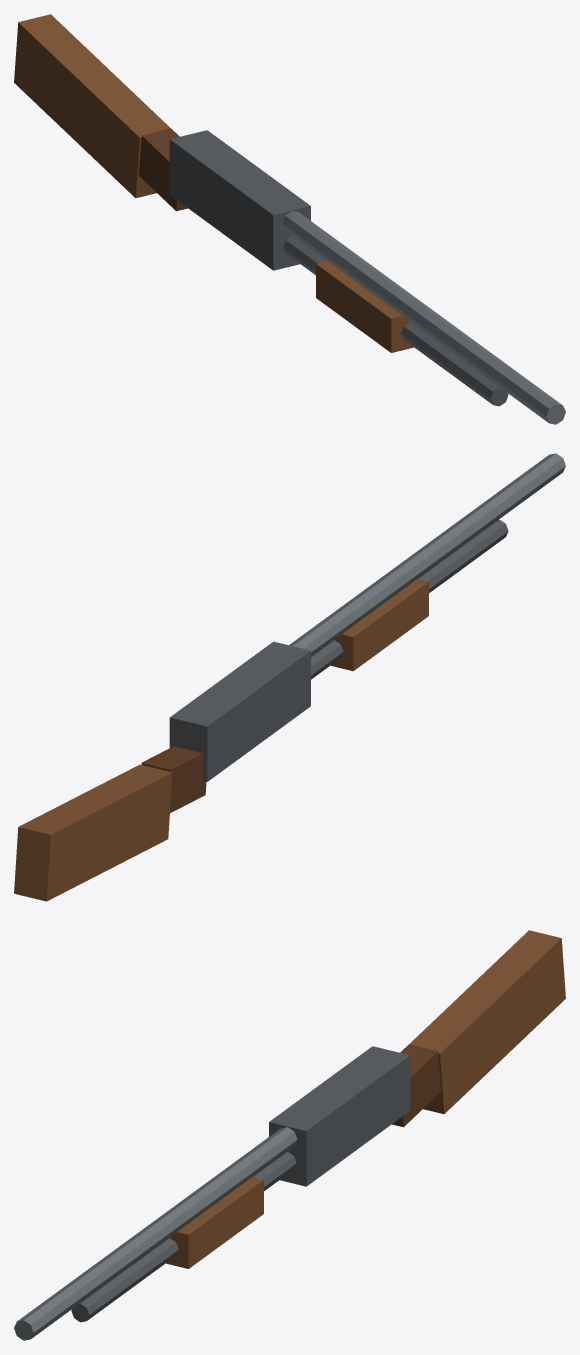
The model's file is gun_shotgun_12g.glb.
The picture shows the model from 3 angles, top to bottom: view 1: azimuth 30°, elevation 25°; view 2: azimuth 150°, elevation 25°; view 3: azimuth 330°, elevation 25°; orthographic projection.
Visible parts, largest first — view 1: gun_shotgun_12g; view 2: gun_shotgun_12g; view 3: gun_shotgun_12g.
Part boxes in pixels (<box>): gun_shotgun_12g: <box>14,14,565,424</box>; gun_shotgun_12g: <box>14,453,565,901</box>; gun_shotgun_12g: <box>14,930,565,1340</box>.
Size of the model in its own units: 0.0483 by 0.1109 by 1.17.
